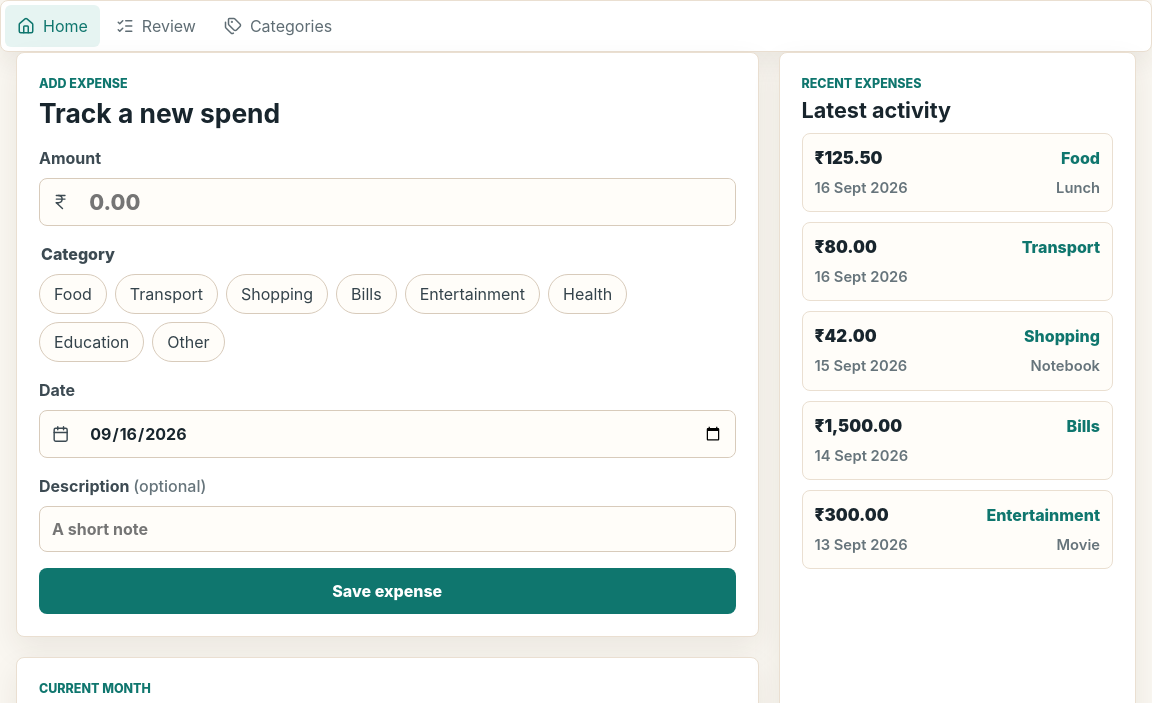
Home shell › navigates from an expense row to the future detail route
Click the link "₹125.50 Food 16 Sept 2026 Lunch" at x=849, y=158, box [802, 133, 1113, 212]
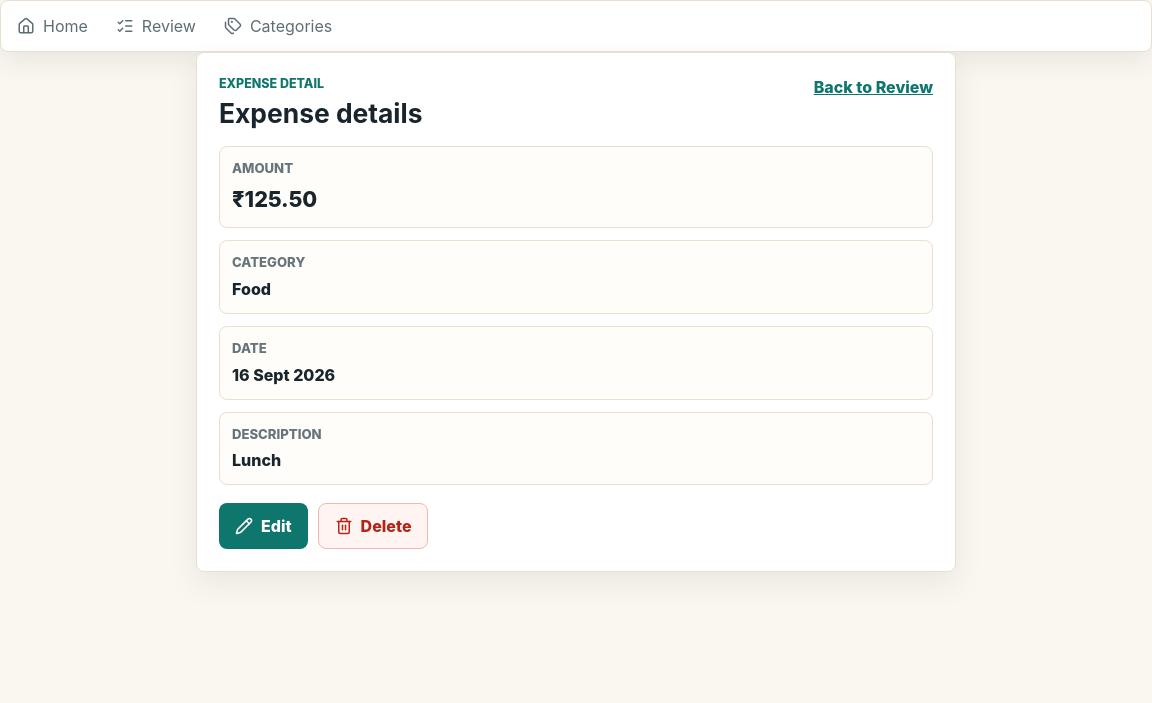
Expected: the text "₹125.50" is shown, [232, 186, 317, 212]
Expected: the heading "Expense details" is shown, [219, 98, 422, 128]
